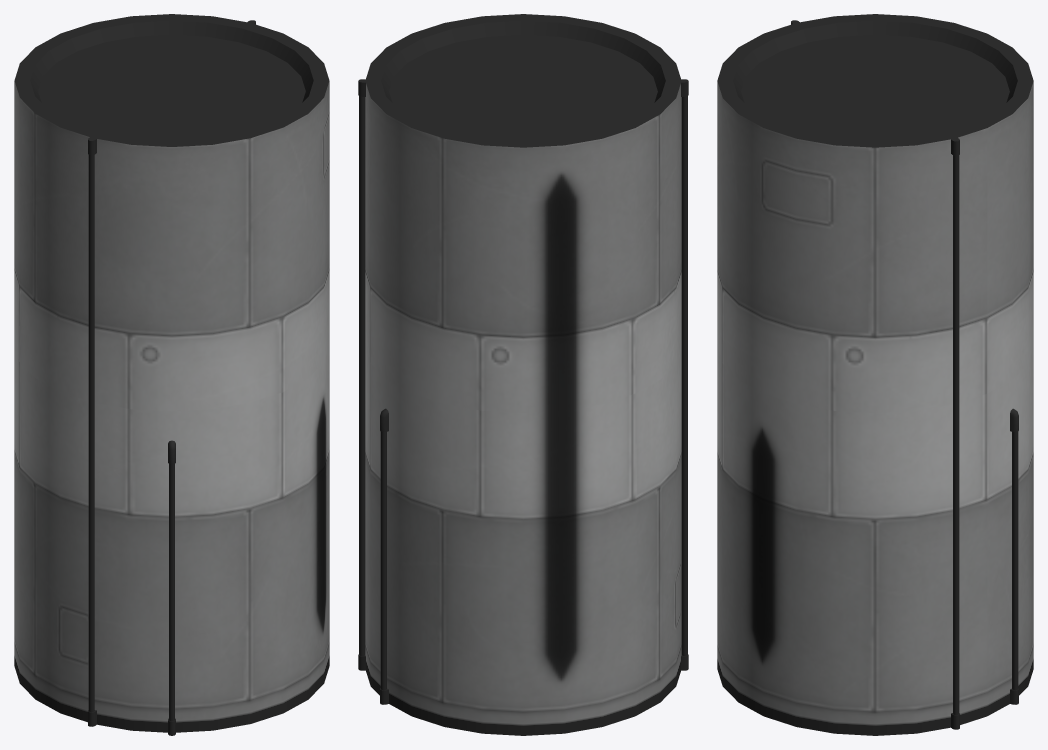
File: TLV_2_LFO_1.obj
3 views of the same model, side by side, from view 1: azimuth 30°, elevation 25°; view 2: azimuth 150°, elevation 25°; view 3: azimuth 270°, elevation 25° (orthographic).
Visible parts, largest first — view 1: TLV_2_LFO_1; view 2: TLV_2_LFO_1; view 3: TLV_2_LFO_1.
Part boxes in pixels (left/top/right/bottom): TLV_2_LFO_1: left=14, top=14, right=329, bottom=735; TLV_2_LFO_1: left=358, top=14, right=688, bottom=735; TLV_2_LFO_1: left=717, top=14, right=1033, bottom=735.
Size of the model in its own units: 1.25 by 2.57 by 1.25.
